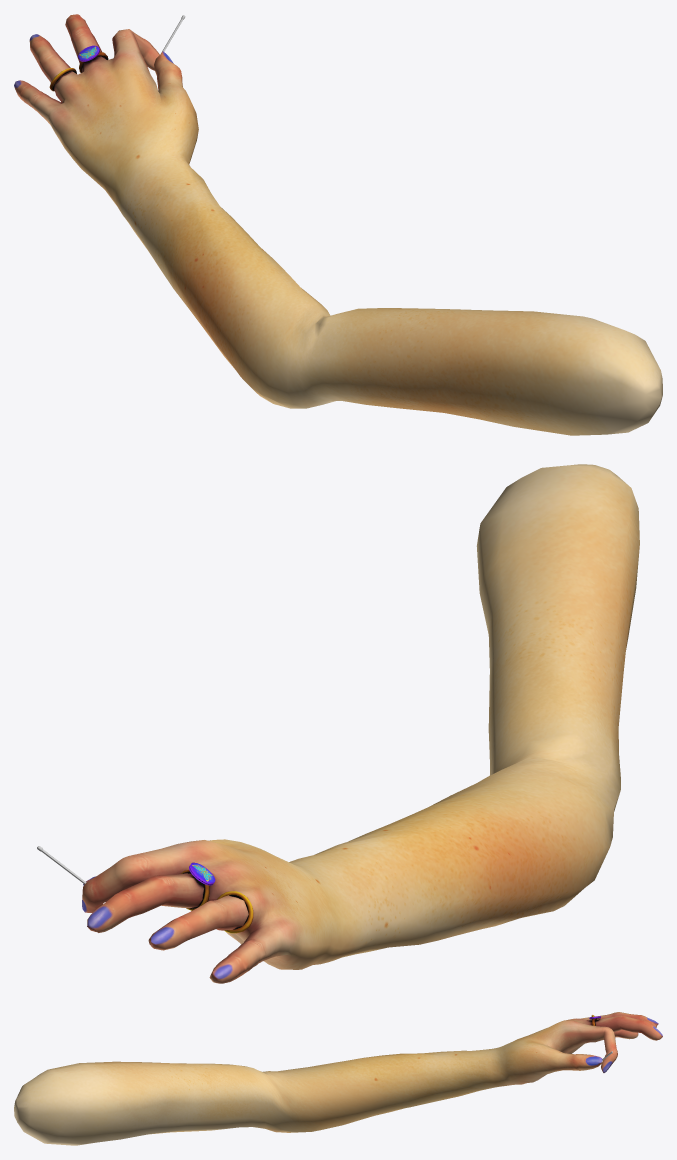
The model's file is Ch_ArmHoldingMatch_model.fbx.
3 views of the same model, one above another, from view 1: azimuth 30°, elevation 25°; view 2: azimuth 150°, elevation 25°; view 3: azimuth 270°, elevation 25° (orthographic). The views are drawn at different scales.
Parts seen in each view (by area): view 1: Ch_ArmHoldingMatch; view 2: Ch_ArmHoldingMatch; view 3: Ch_ArmHoldingMatch.
Boxes of the visible parts, x1=… form: Ch_ArmHoldingMatch: x1=14, y1=14, x2=662, y2=435; Ch_ArmHoldingMatch: x1=37, y1=464, x2=639, y2=983; Ch_ArmHoldingMatch: x1=14, y1=1012, x2=662, y2=1145.
Size of the model in its own units: 28.28 by 21.31 by 98.91.
